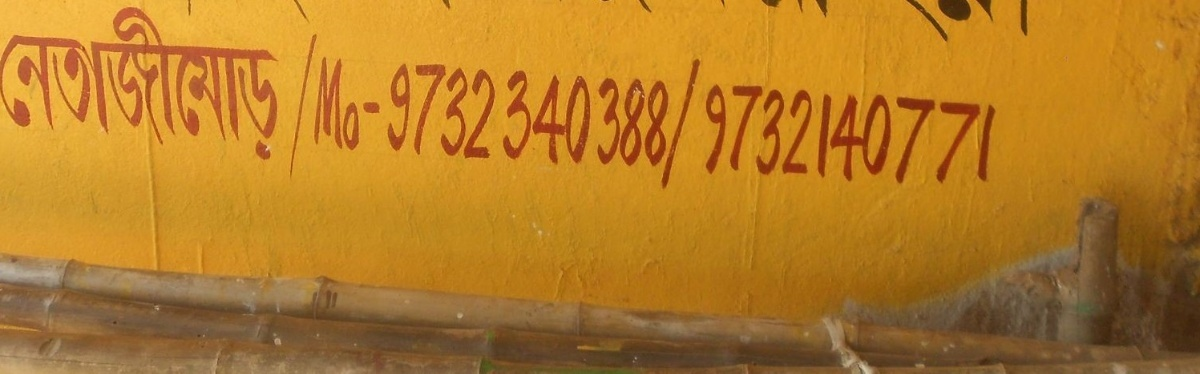text: (1, 1, 16, 161), (17, 1, 32, 161), (33, 1, 48, 161), (49, 1, 64, 161), (65, 1, 80, 161), (81, 1, 96, 161), (97, 1, 112, 161), (113, 1, 128, 161), (129, 1, 144, 161), (145, 1, 160, 161), (161, 1, 176, 161), (177, 1, 192, 161), (193, 1, 208, 161), (209, 1, 224, 161), (225, 1, 240, 161), (241, 1, 256, 161), (257, 1, 272, 161), (321, 31, 336, 175), (337, 31, 352, 175), (353, 31, 368, 175), (369, 31, 384, 175), (385, 31, 400, 175), (401, 31, 416, 175), (417, 31, 432, 175), (433, 31, 448, 175), (449, 31, 464, 175), (465, 31, 480, 175), (481, 31, 496, 175), (497, 31, 512, 175), (513, 31, 528, 175), (529, 31, 544, 175), (545, 31, 560, 175), (561, 31, 576, 175), (577, 31, 592, 175), (593, 31, 608, 175), (609, 31, 624, 175), (625, 31, 640, 175), (641, 31, 656, 175), (673, 53, 688, 193), (689, 53, 704, 193), (705, 53, 720, 193), (721, 53, 736, 193), (737, 53, 752, 193), (753, 53, 768, 193), (769, 53, 784, 193), (785, 53, 800, 193), (801, 53, 816, 193), (817, 53, 832, 193), (833, 53, 848, 193), (849, 53, 864, 193), (865, 53, 880, 193), (881, 53, 896, 193), (897, 53, 912, 193), (913, 53, 928, 193), (929, 53, 944, 193), (945, 53, 960, 193), (961, 53, 976, 193), (977, 53, 992, 193), (306, 31, 320, 175), (657, 31, 671, 175), (273, 1, 284, 161), (663, 53, 672, 193), (993, 53, 999, 193), (641, 1, 656, 45), (657, 1, 672, 45), (673, 1, 688, 45), (689, 1, 704, 45), (705, 1, 720, 45), (721, 1, 736, 45), (737, 1, 752, 45), (753, 1, 768, 45), (769, 1, 784, 45), (785, 1, 800, 45), (801, 1, 816, 45), (817, 1, 832, 45), (833, 1, 848, 45), (849, 1, 864, 45), (865, 1, 880, 45), (881, 1, 896, 45), (897, 1, 912, 45), (913, 1, 928, 45), (929, 1, 944, 45), (945, 1, 960, 45), (961, 1, 976, 45), (977, 1, 992, 45), (993, 1, 1008, 45), (1009, 1, 1024, 45), (1025, 1, 1040, 45), (627, 1, 640, 45), (305, 1, 313, 25), (300, 1, 304, 25), (187, 1, 192, 16), (441, 1, 448, 11), (1041, 1, 1042, 45), (449, 1, 453, 11)
